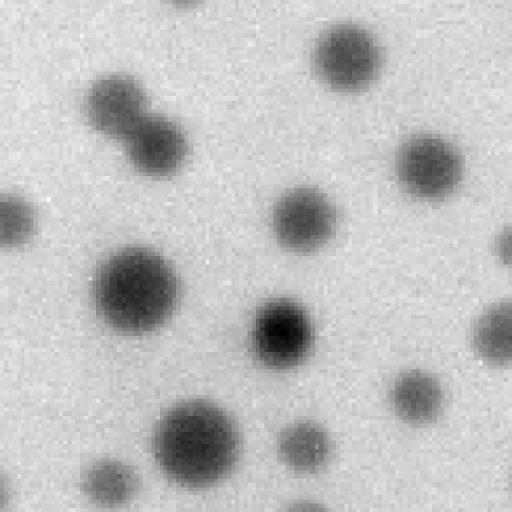Nanoparticles: (86, 236, 194, 341), (149, 392, 247, 492), (304, 18, 391, 100), (244, 292, 324, 372), (393, 130, 469, 212), (266, 180, 342, 260), (124, 110, 199, 180), (88, 72, 146, 150), (272, 416, 340, 481), (384, 361, 450, 427), (73, 452, 148, 510), (467, 296, 512, 368), (0, 185, 40, 252), (490, 218, 512, 271)
